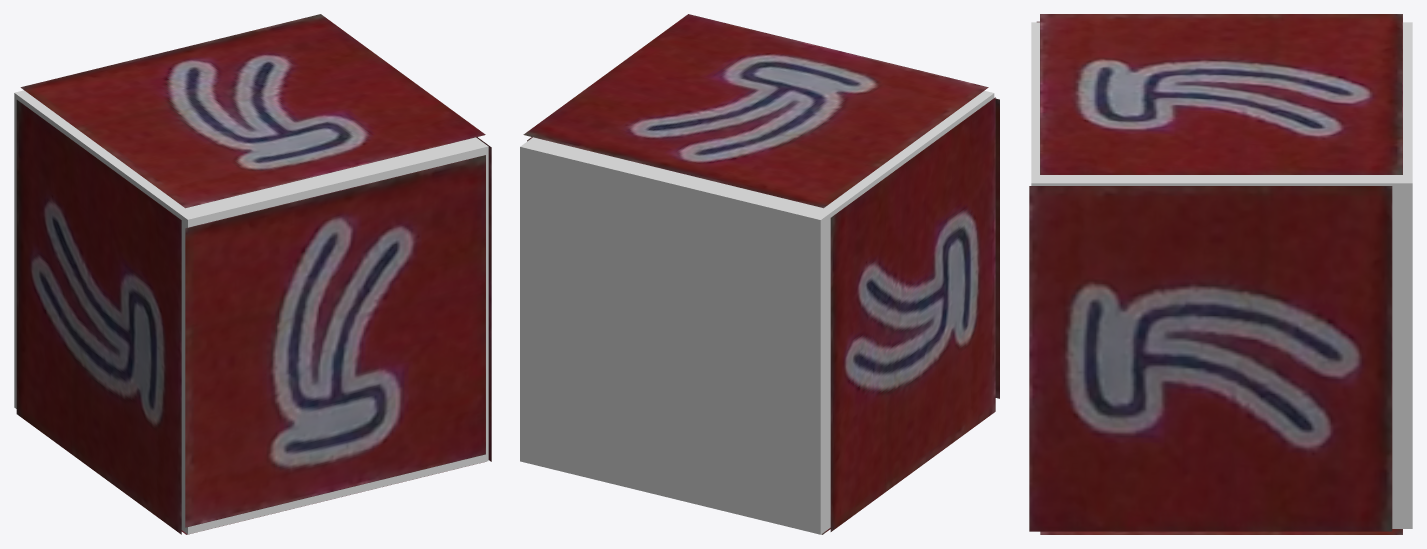
3 views of the same model, side by side, from view 1: azimuth 30°, elevation 25°; view 2: azimuth 150°, elevation 25°; view 3: azimuth 270°, elevation 25° (orthographic). The views are drawn at different scales.
Parts seen in each view (by area): view 1: R2.001, R2.002, R2, Link36, R2.004; view 2: Link36, R2.002, R2, R2.001; view 3: R2.004, R2, Link36, R2.003.
Boxes of the visible parts, x1,y1,x2,y2 form: R2.001: (185, 155, 485, 527); R2.002: (16, 100, 181, 534); R2: (20, 14, 485, 208); Link36: (14, 90, 488, 534); R2.004: (476, 137, 491, 461); Link36: (520, 90, 994, 534); R2.002: (830, 97, 995, 531); R2: (523, 14, 988, 208); R2.001: (995, 98, 999, 398); R2.004: (1029, 186, 1392, 531); R2: (1040, 14, 1402, 174); Link36: (1031, 22, 1412, 528); R2.003: (1040, 529, 1402, 534).
Size of the model in its own units: 0.3578 by 0.3529 by 0.3637.
1 material, 1 textured.
